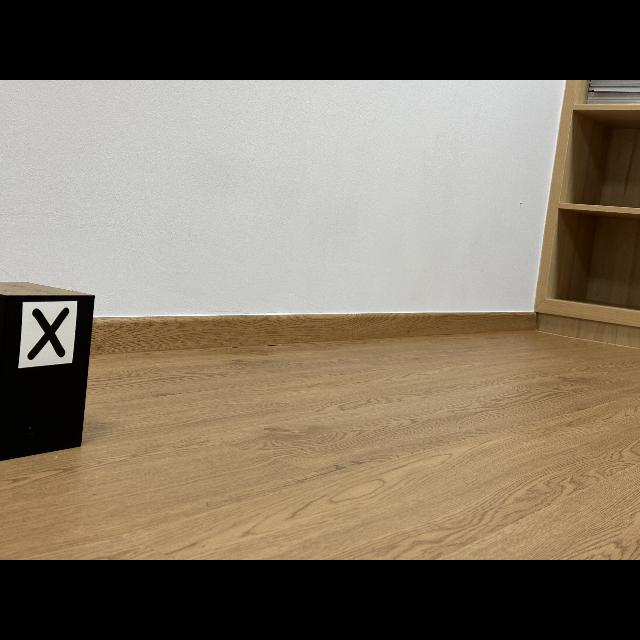X: (28, 308, 69, 360)
